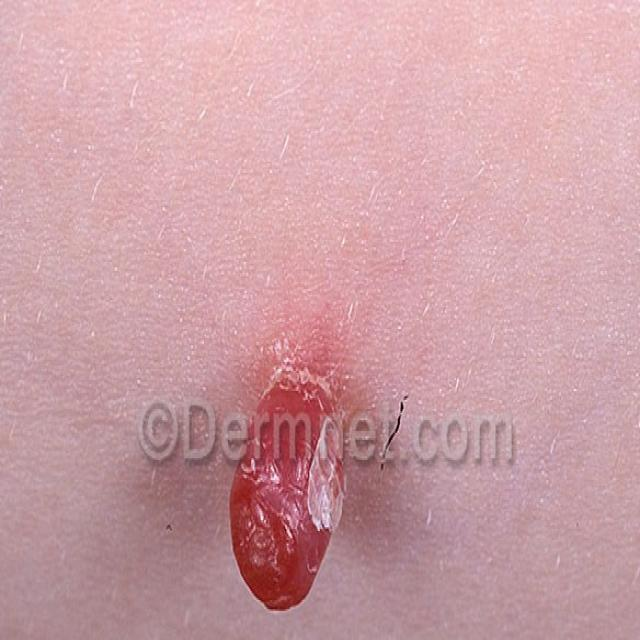Vascular Tumors: (213, 350, 356, 621)
